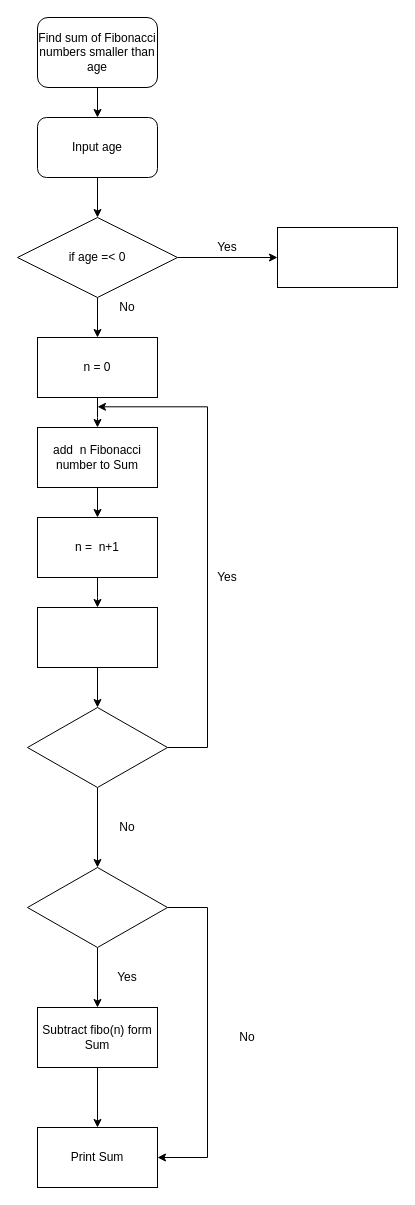
This 415x1205 diagram has some shape labels left out. The shapes that lost their labels are listed below. From the top down, each one's centre as x and y in pixels, then its label:
At (337,257): "print 0, end".
At (97,637): "Age = Age - Fibo(n)".
At (97,747): "If age >= 0".
At (97,907): "If Age < 0".
